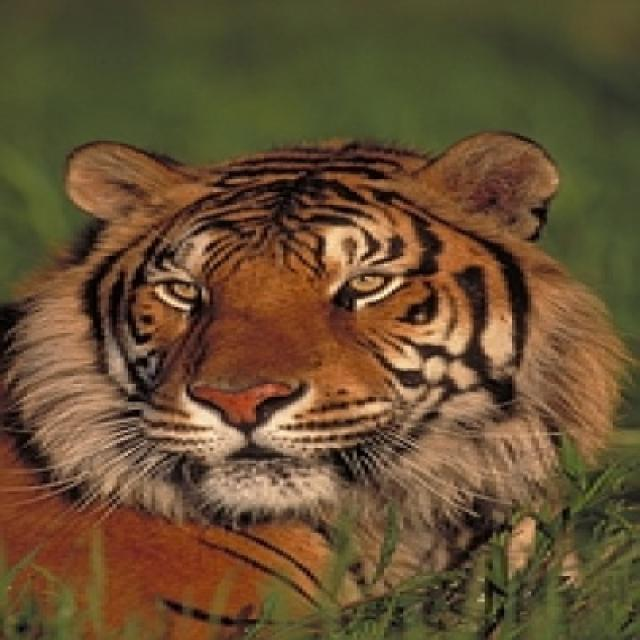Tiger: (7, 126, 624, 635)
